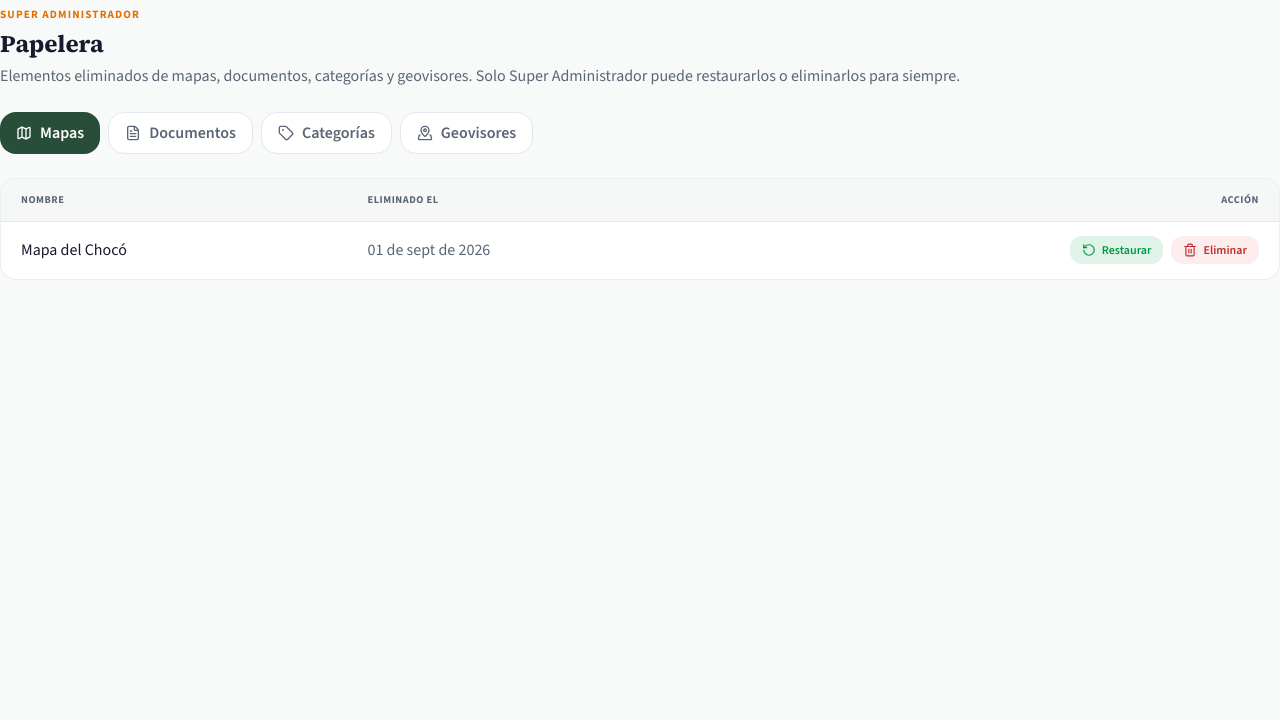
Test: Papelera — eliminar permanentemente › el botón Eliminar abre un diálogo de confirmación antes de purgar
The image size is (1280, 720).
Check: the text "Mapa del Chocó" is shown, box [1,221,348,279]
Click the button "Eliminar" at (1215, 250), box [1172,236,1259,264]
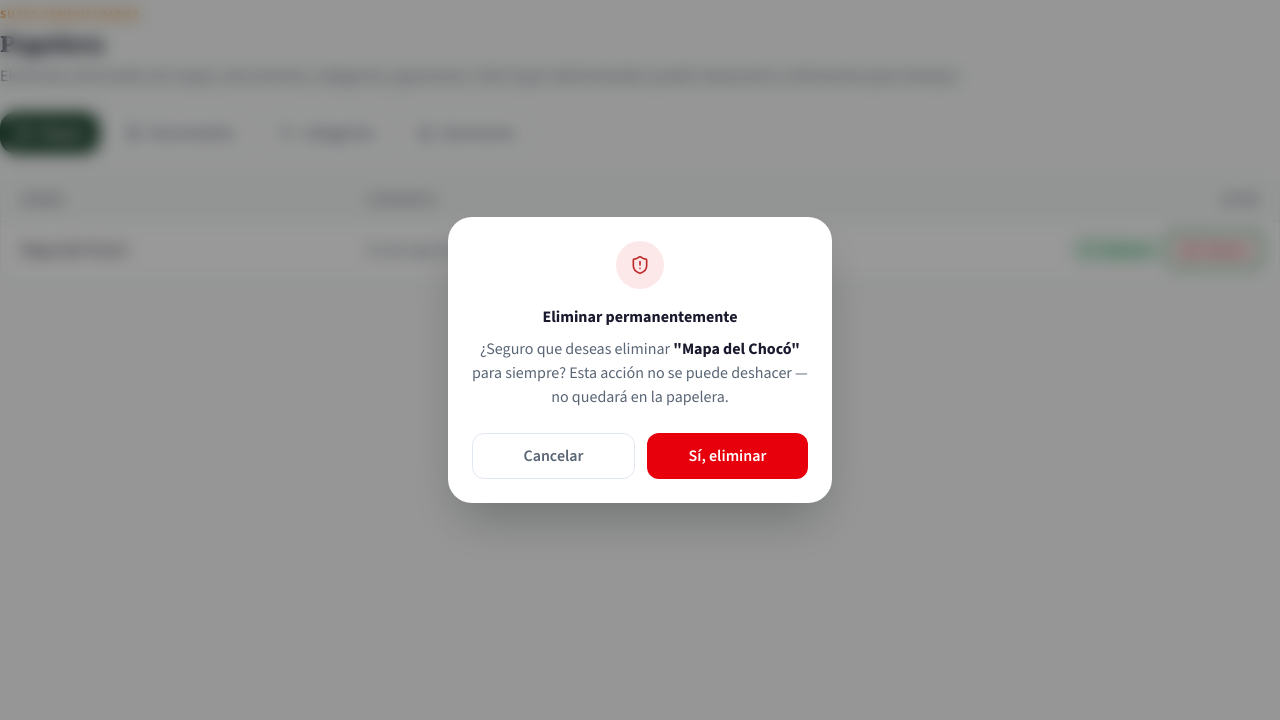
Check: the heading "Eliminar permanentemente" is shown, box [542,306,738,327]
